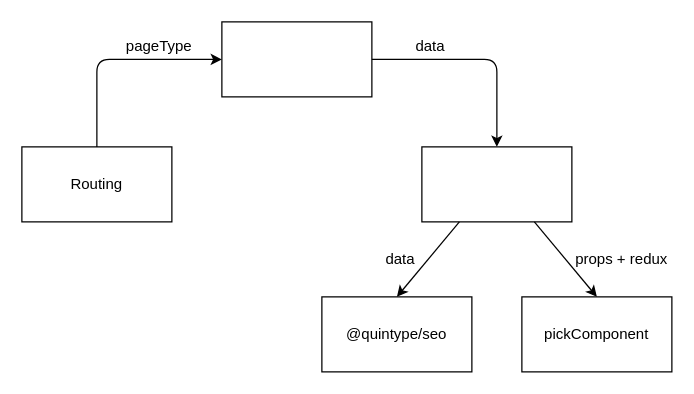
The diagram is 694 pixels wide and 394 high, and some of its shapes have lost their labels. Here are the shapes that lost their labels. From the top down, the centre of each, then its label:
At (x=296, y=59): "loadData".
At (x=496, y=184): "renderLayout".
